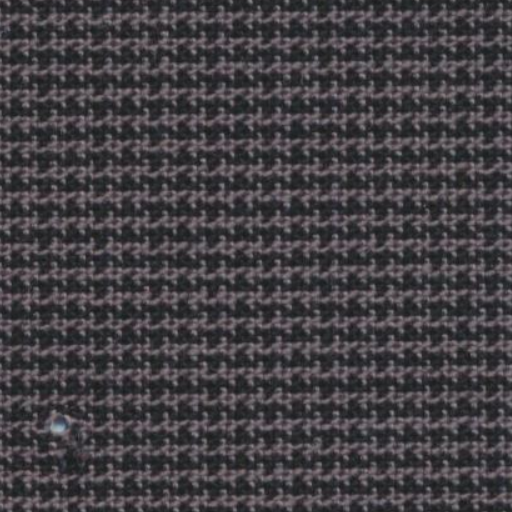PoDong: (29, 390, 112, 466)
